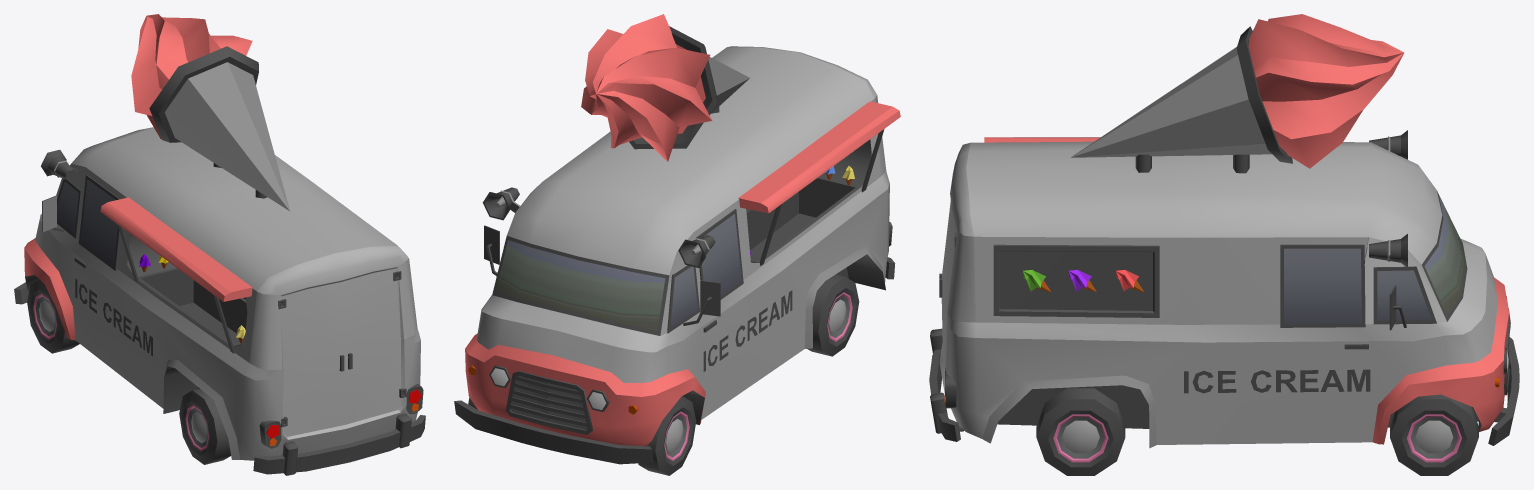
File: ice-cream-van.glb
3 renders of one model, left to right at view 1: azimuth 30°, elevation 25°; view 2: azimuth 150°, elevation 25°; view 3: azimuth 270°, elevation 25°, orthographic. The views are drawn at different scales.
Visible parts, largest first — view 1: body, wheel-rear-left, wheel-front-left; view 2: body, wheel-rear-left, wheel-front-left; view 3: body, wheel-rear-right, wheel-front-right.
Part boxes in pixels (x1,y1,x2,y2): body: (14,14,425,475); wheel-rear-left: (179,388,230,464); wheel-front-left: (27,279,79,353); body: (454,14,900,464); wheel-rear-left: (807,274,859,356); wheel-front-left: (638,396,696,475); body: (929,14,1519,448); wheel-rear-right: (1036,388,1125,475); wheel-front-right: (1390,394,1478,475).
Size of the model in its own units: 2.4 by 3.65 by 4.8.
Materials: 1 (1 with a texture image).
